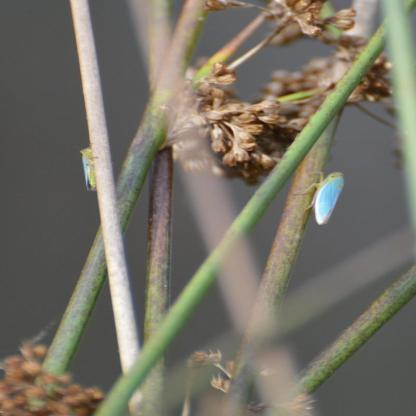Green-Leafhopper: (300, 168, 347, 227), (74, 145, 100, 188)
